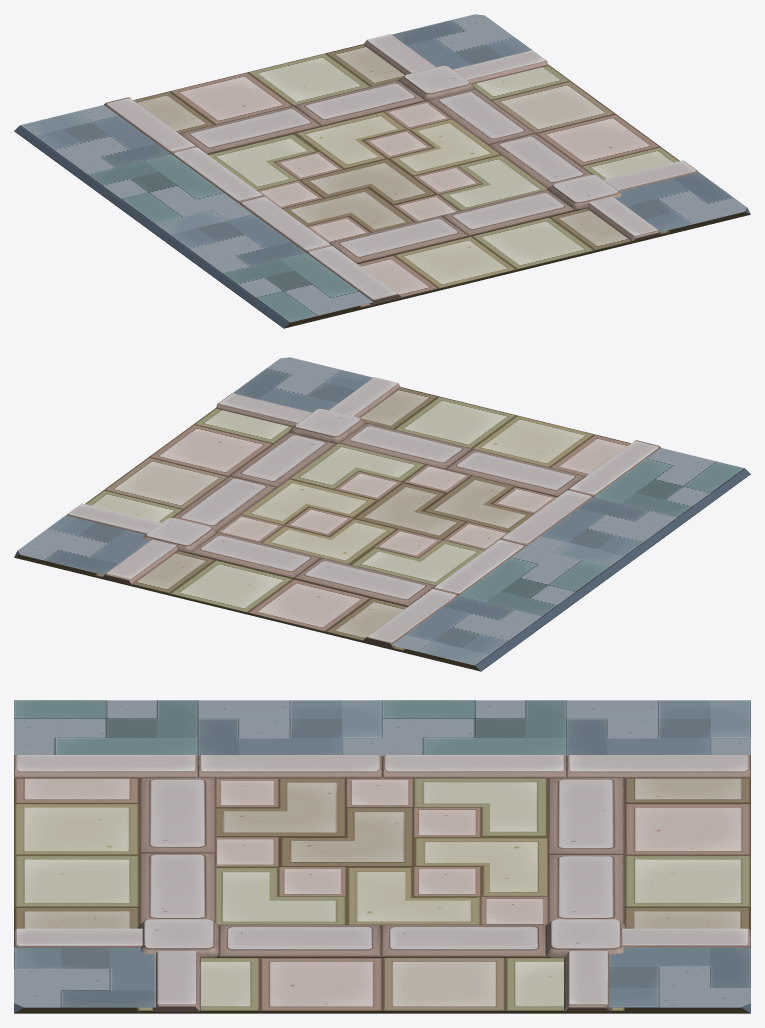
Rendered from road_fork.glb.
3 views of the same model, one above another, from view 1: azimuth 30°, elevation 25°; view 2: azimuth 150°, elevation 25°; view 3: azimuth 270°, elevation 25° (orthographic). The views are drawn at different scales.
Parts seen in each view (by area): view 1: road_02; view 2: road_02; view 3: road_02.
Part boxes in pixels (x1,y1,x2,y2): road_02: [14, 14, 750, 328]; road_02: [14, 357, 750, 671]; road_02: [14, 700, 750, 1013].
Size of what is drawn, in the model's own units: 16 by 0.2444 by 16.
1 material, 1 textured.
